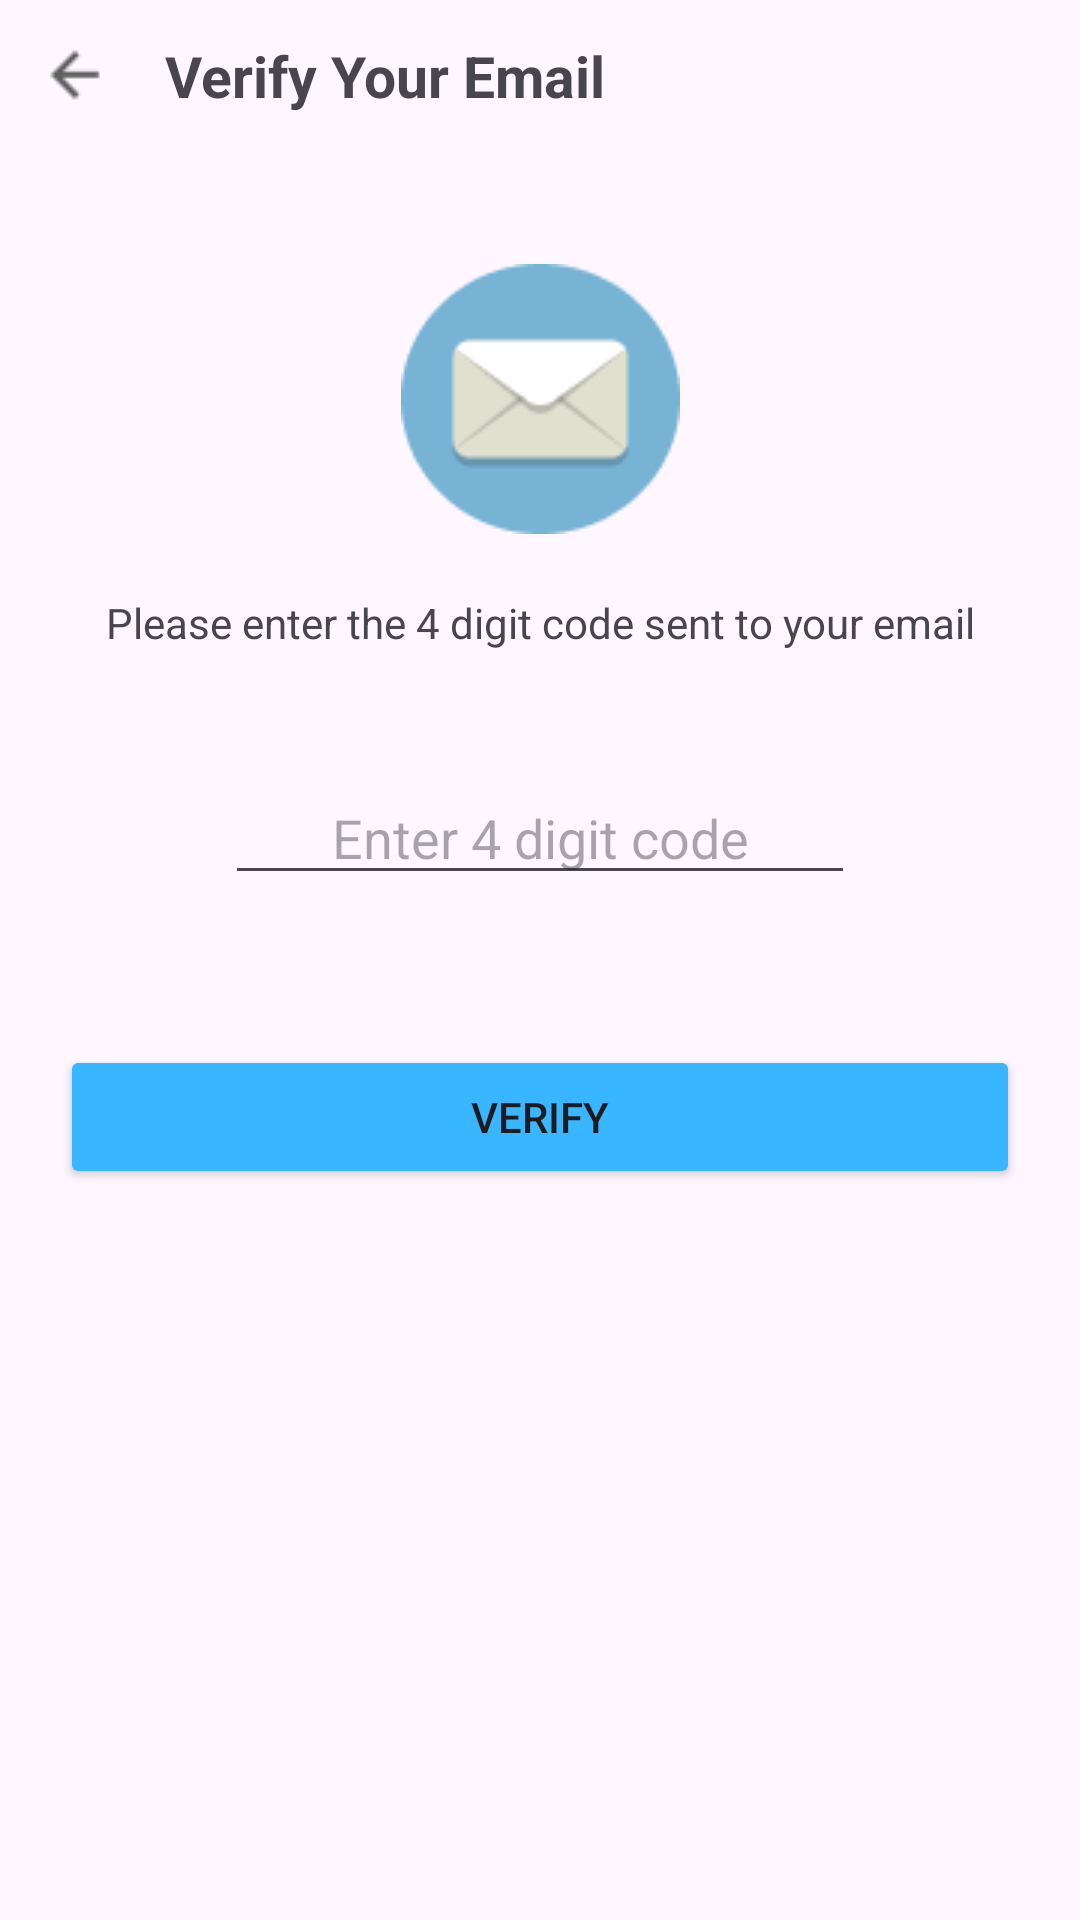

Screen size 1080px x 1920px. Icon name, then its center in pixels as [x,y]:
arrow left: [75,75]
